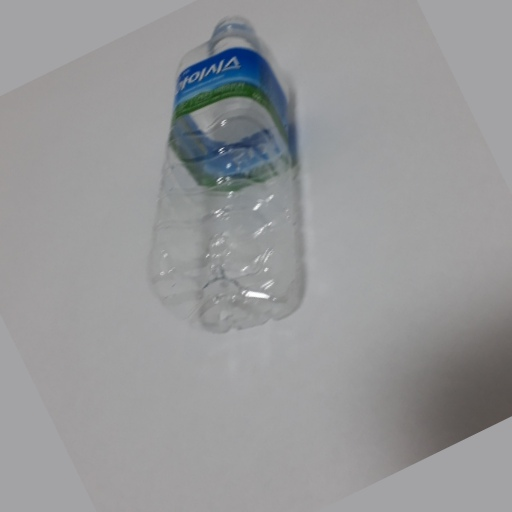Plastic_0: (151, 12, 302, 336)
